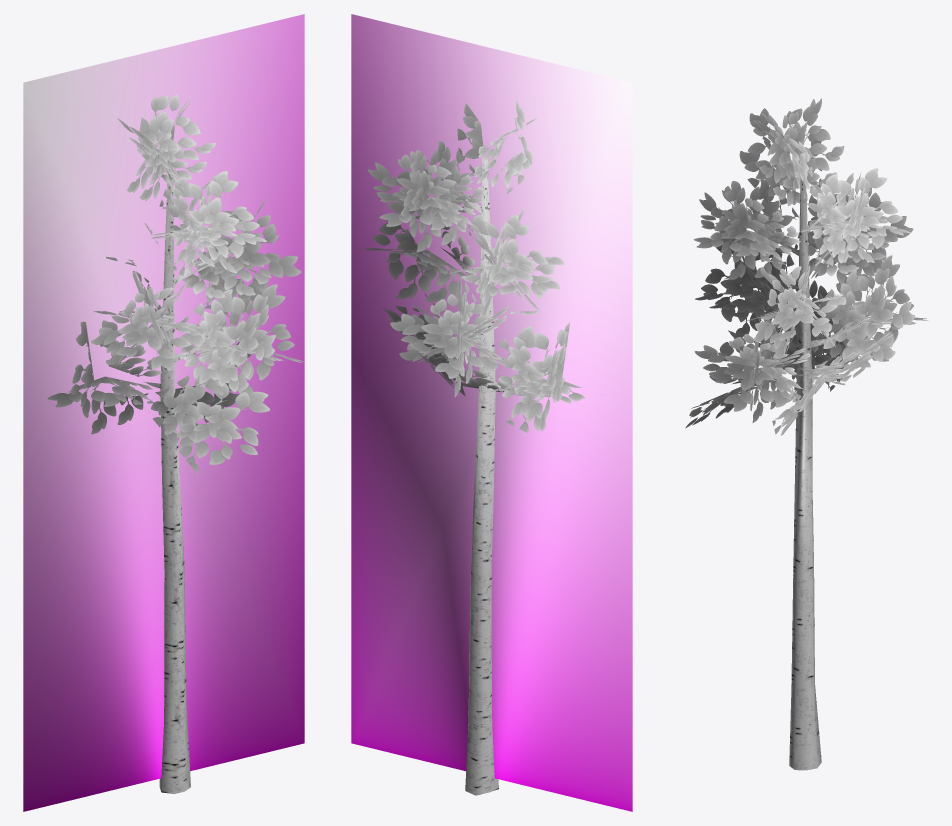
Rendered from Birch_03.fbx.
The picture shows the model from 3 angles, left to right: view 1: azimuth 30°, elevation 25°; view 2: azimuth 150°, elevation 25°; view 3: azimuth 270°, elevation 25°; orthographic projection. The views are drawn at different scales.
Parts seen in each view (by area): view 1: FAE_Birch_C_Billboard, FAE_Birch_C_LOD0; view 2: FAE_Birch_C_Billboard, FAE_Birch_C_LOD0; view 3: FAE_Birch_C_LOD0.
Part boxes in pixels (x1,y1,x2,y2): FAE_Birch_C_Billboard: (23,14,304,811); FAE_Birch_C_LOD0: (47,94,304,793); FAE_Birch_C_Billboard: (351,14,632,811); FAE_Birch_C_LOD0: (360,99,600,795); FAE_Birch_C_LOD0: (685,98,928,770).
Size of what is drawn, in the model's own units: 738 by 1858 by 675.
